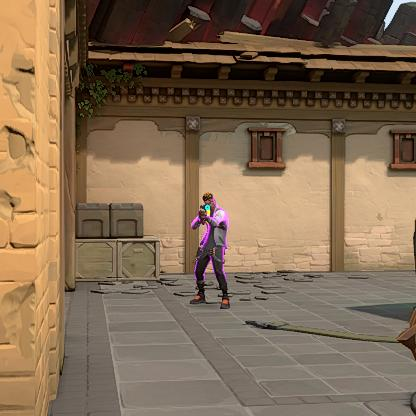enemyBody: (208, 212, 223, 243)
enemyHead: (205, 198, 214, 210)
